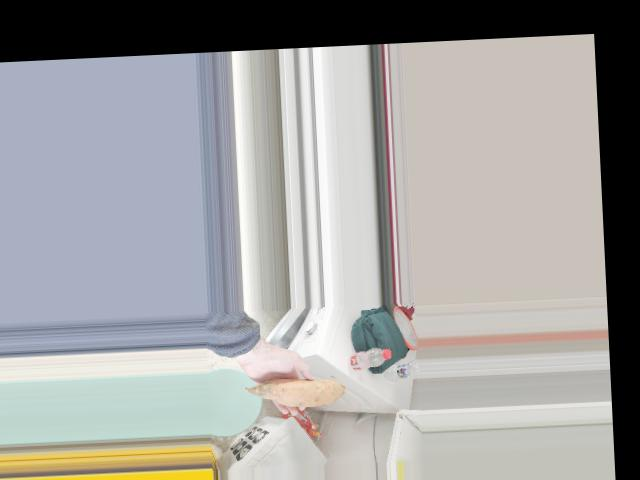sweet_potato: (265, 370, 353, 407)
